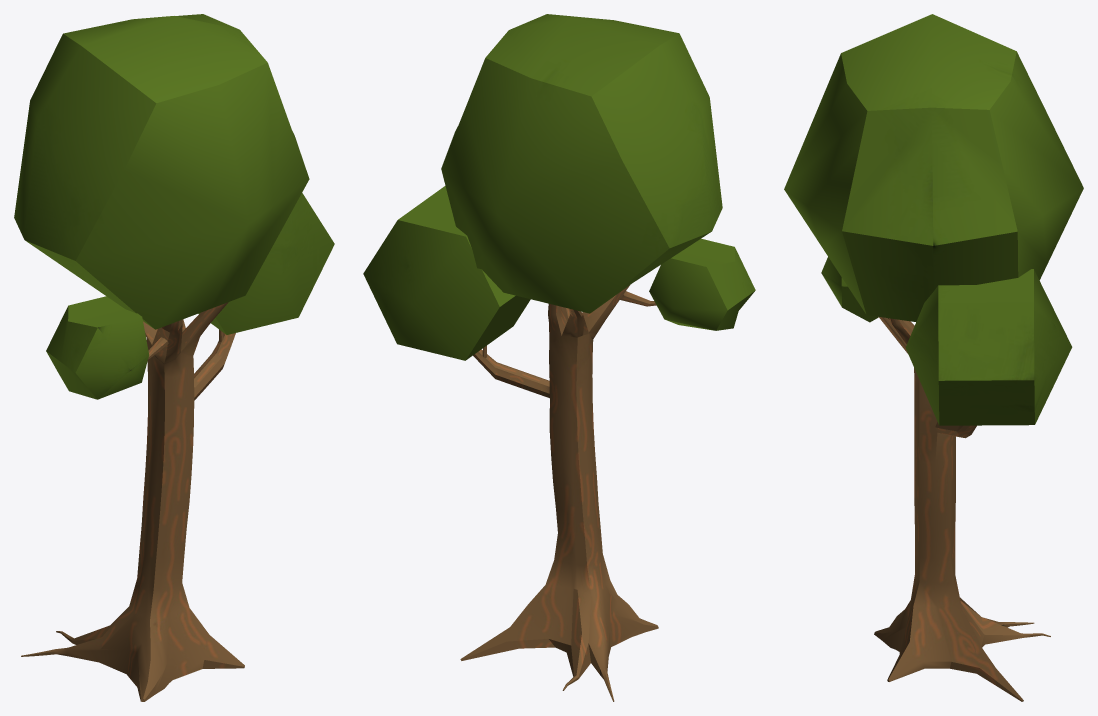
The model's file is arbre.fbx.
3 views of the same model, side by side, from view 1: azimuth 30°, elevation 25°; view 2: azimuth 150°, elevation 25°; view 3: azimuth 270°, elevation 25° (orthographic). The views are drawn at different scales.
Parts seen in each view (by area): view 1: feuillage, tronc, petit_Feuillage, moyen_Feuillage; view 2: feuillage, tronc, moyen_Feuillage, petit_Feuillage; view 3: feuillage, moyen_Feuillage, tronc, petit_Feuillage.
Boxes of the visible parts, x1,y1,x2,y2 form: feuillage: [14, 14, 309, 329]; tronc: [21, 302, 244, 701]; petit_Feuillage: [46, 296, 148, 399]; moyen_Feuillage: [198, 193, 334, 334]; feuillage: [441, 14, 722, 313]; tronc: [460, 285, 658, 701]; moyen_Feuillage: [363, 186, 530, 360]; petit_Feuillage: [649, 238, 755, 330]; feuillage: [784, 14, 1083, 321]; moyen_Feuillage: [905, 269, 1072, 425]; tronc: [874, 316, 1050, 701]; petit_Feuillage: [821, 257, 878, 322].
Bounding box in the file's own units: 7.42 × 14.89 × 6.52.
1 material, 1 textured.
